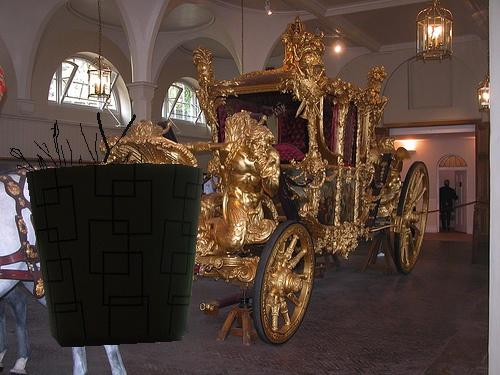tampered: (11, 113, 203, 347)
